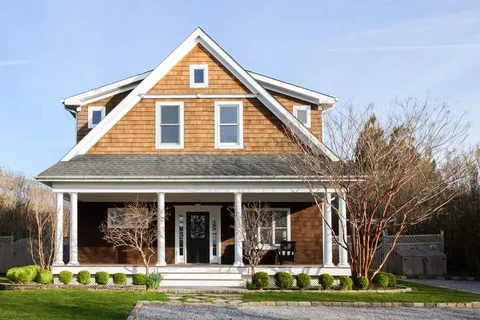private_hause: (48, 22, 362, 283)
